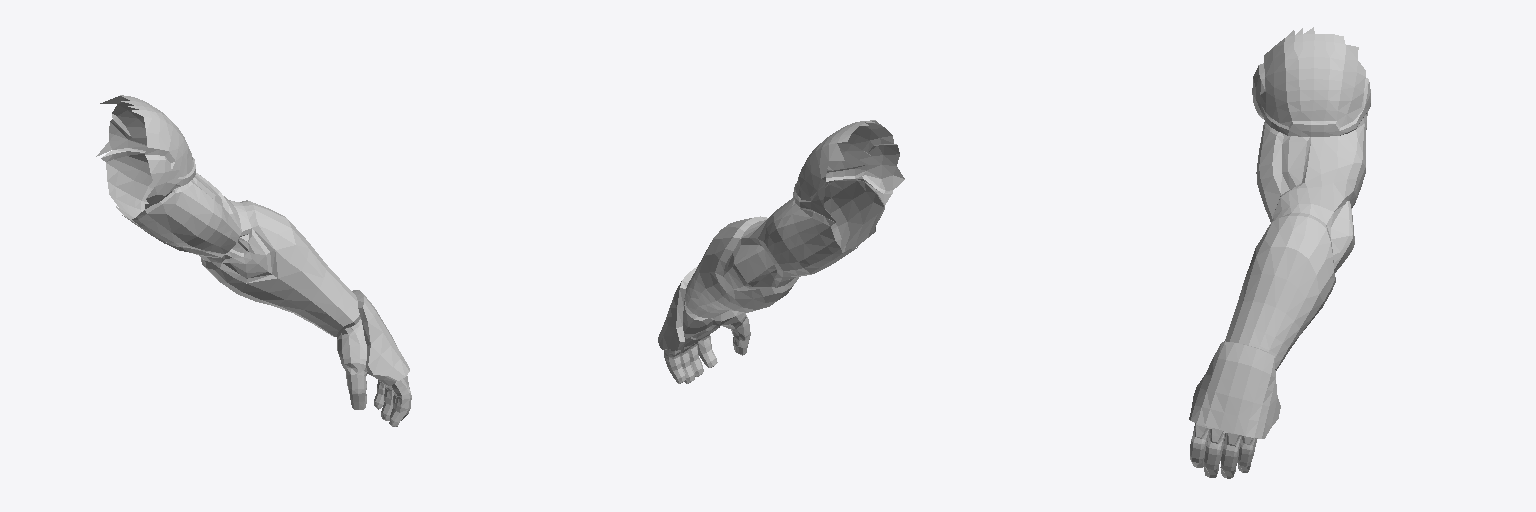
File: brazoIzquierdo.obj
3 renders of one model, left to right at view 1: azimuth 30°, elevation 25°; view 2: azimuth 150°, elevation 25°; view 3: azimuth 270°, elevation 25°, orthographic.
Visible parts, largest first — view 1: M_MED_HighTower_Tomato_Casual.mo_M_MED_HighTower_Tomato_Casual.m; view 2: M_MED_HighTower_Tomato_Casual.mo_M_MED_HighTower_Tomato_Casual.m; view 3: M_MED_HighTower_Tomato_Casual.mo_M_MED_HighTower_Tomato_Casual.m.
Boxes of the visible parts, x1,y1,x2,y2 form: M_MED_HighTower_Tomato_Casual.mo_M_MED_HighTower_Tomato_Casual.m: [96, 95, 411, 426]; M_MED_HighTower_Tomato_Casual.mo_M_MED_HighTower_Tomato_Casual.m: [658, 120, 904, 383]; M_MED_HighTower_Tomato_Casual.mo_M_MED_HighTower_Tomato_Casual.m: [1189, 27, 1370, 478].
Size of the model in its own units: 43.77 by 57.74 by 27.82.